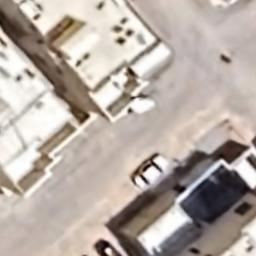sedan: (132, 152, 169, 190)
